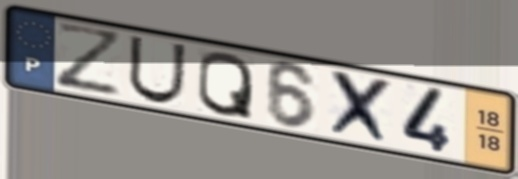4: (399, 83, 460, 157)
6: (263, 60, 323, 132)
Q: (194, 50, 256, 122)
U: (125, 33, 190, 106)
X: (325, 67, 396, 149)
Z: (53, 19, 127, 99)
